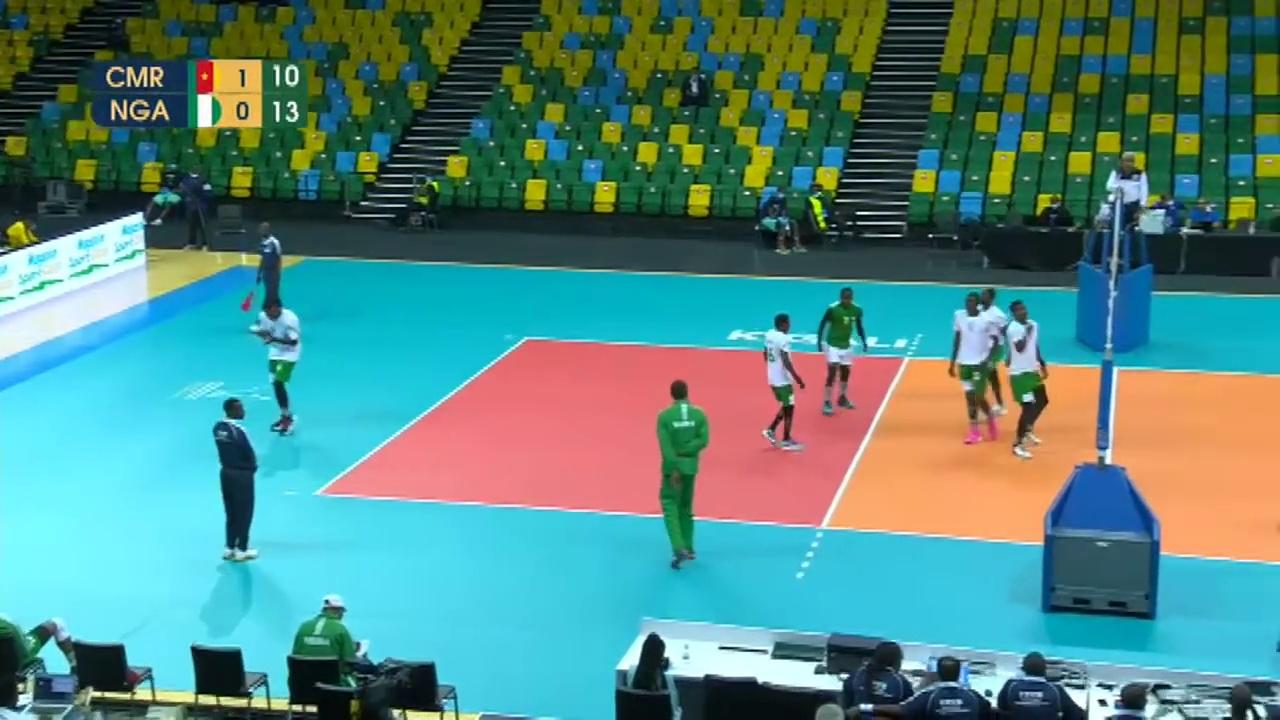player: (749, 315, 808, 453), (1006, 302, 1050, 461), (815, 286, 869, 414), (951, 291, 994, 451), (253, 298, 302, 429), (971, 286, 1012, 417)
refree: (213, 399, 264, 559), (1106, 148, 1148, 255), (246, 223, 286, 321)
